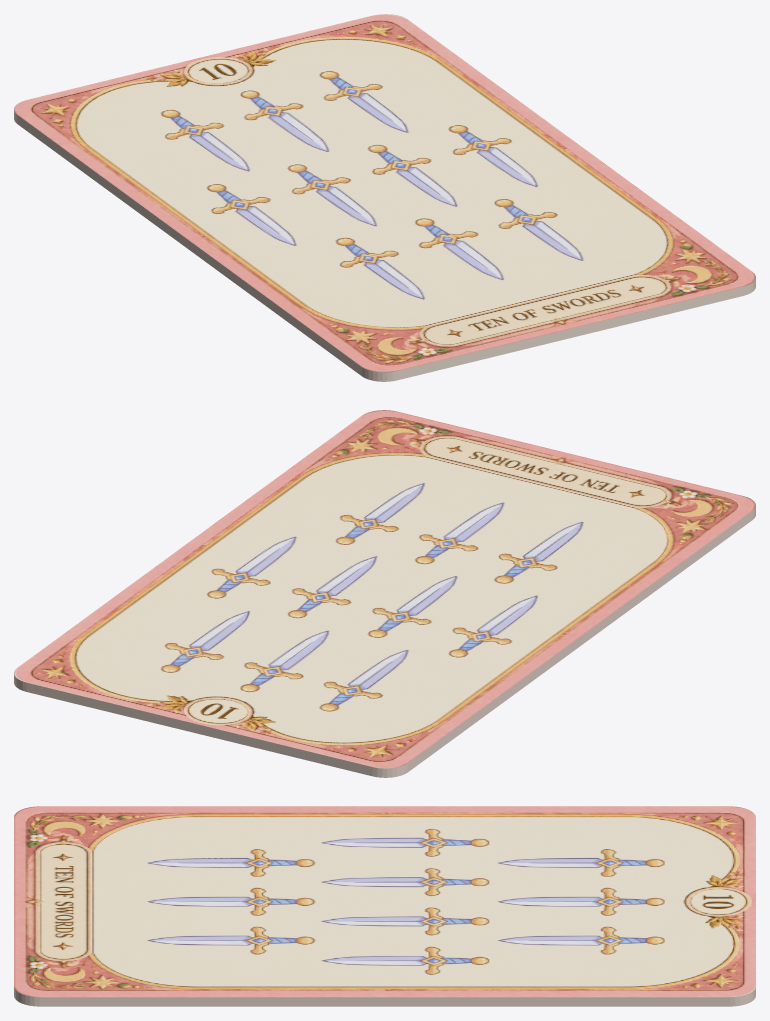
File: ten_of_swords.fbx
3 renders of one model, top to bottom at view 1: azimuth 30°, elevation 25°; view 2: azimuth 150°, elevation 25°; view 3: azimuth 270°, elevation 25°, orthographic.
Visible parts, largest first — view 1: ten_of_swords; view 2: ten_of_swords; view 3: ten_of_swords.
Part boxes in pixels (x1,y1,x2,y2): ten_of_swords: [14, 14, 755, 381]; ten_of_swords: [14, 410, 755, 777]; ten_of_swords: [14, 806, 755, 1006].
Bounding box in the file's own units: 7 × 0.16 × 11.5.
3 materials, 2 textured.
